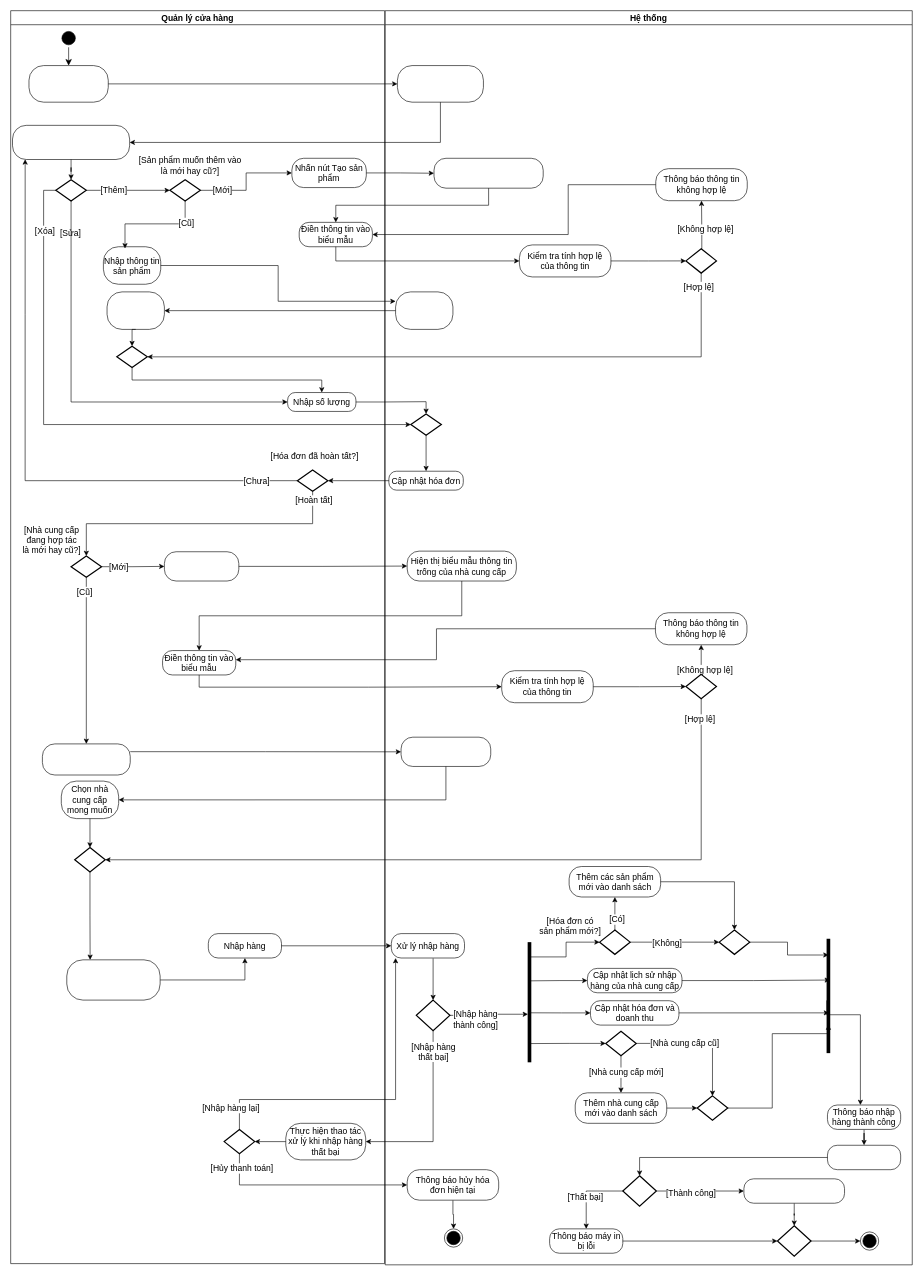
This 923x1276 diagram has some shape labels left out. Each missing label, with the box of its shape:
Chọn chức năng nhập hàng: (28, 65, 108, 102)
Chọn phương thức thanh toán đã bàn trước với nhà cung cấp: (66, 959, 160, 1000)
Chọn sản phẩm muốn thêm: (106, 291, 164, 329)
Hiển thị biểu mẫu danh sách sản phẩm: (397, 65, 483, 102)
Hiển thị các nhà cung cấp trùng khớp: (400, 737, 491, 766)
Hiển thị các sản phẩm trùng khớp: (395, 291, 453, 329)
Hiện thị biểu mẫu thông tin trống của sản phẩm: (433, 158, 543, 188)
Nhấn nút Tạo nhà cung cấp: (164, 551, 239, 581)
Nhập thông tin nhà cung cấp: (42, 743, 130, 775)
Thông báo xuất hóa đơn thành công: (743, 1178, 845, 1203)
Thực hiện thao tác quản lý các danh sách sản phẩm nhập vào: (12, 125, 130, 160)
Xuất hóa đơn: (827, 1145, 901, 1170)
